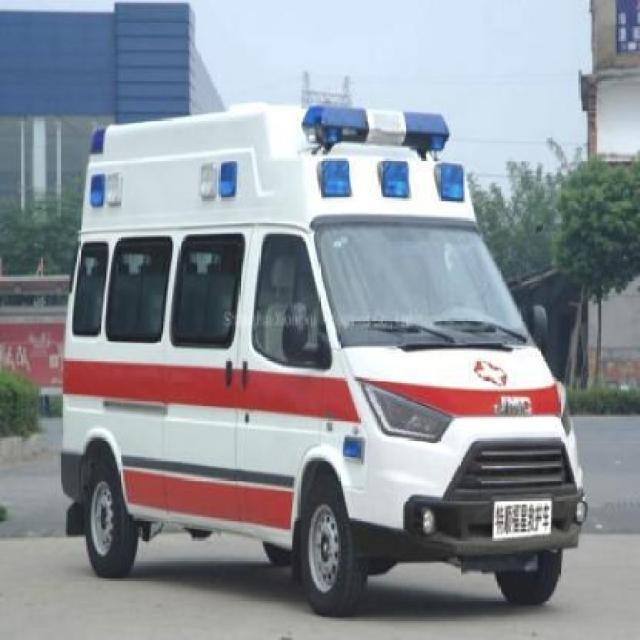emergency: (59, 98, 588, 616)
